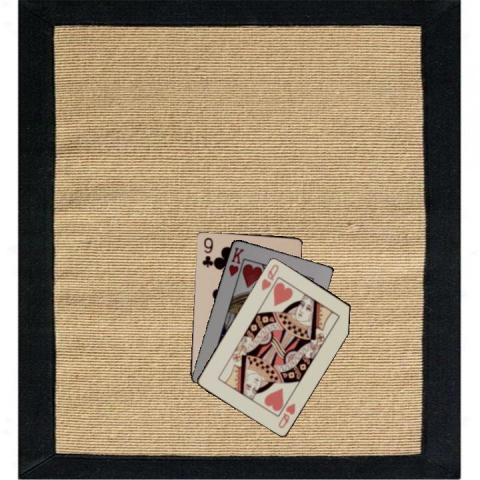9c: (198, 234, 212, 269)
Kh: (226, 244, 246, 278)
Qh: (258, 261, 280, 291), (275, 400, 297, 429)
